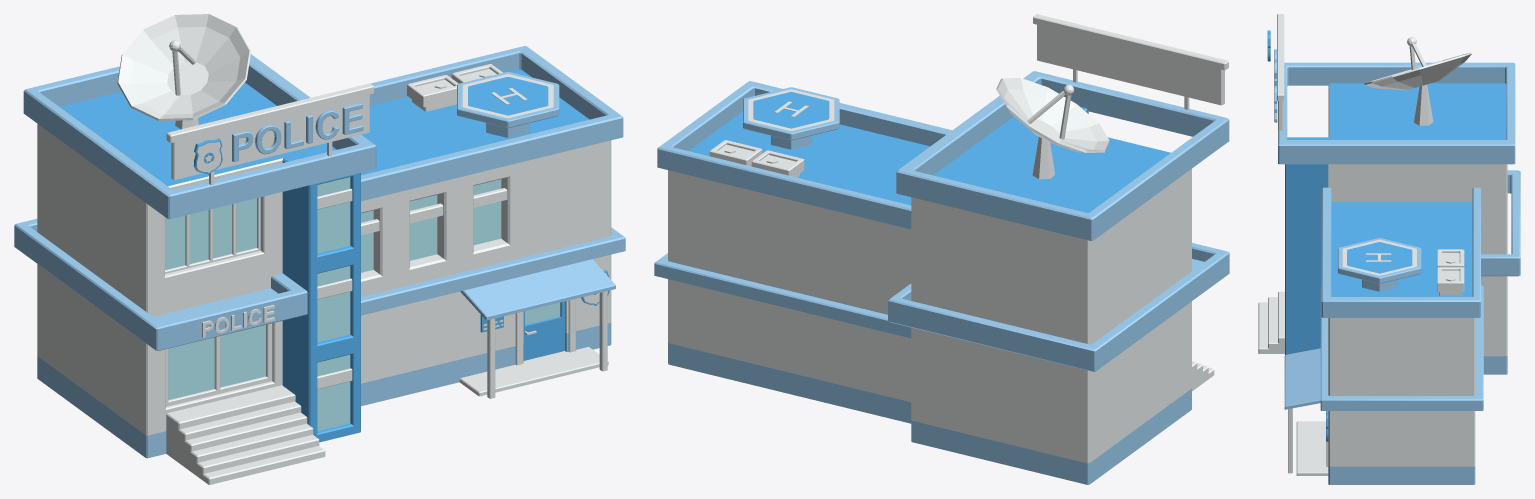
Rendered from Police_Station.fbx.
The picture shows the model from 3 angles, left to right: view 1: azimuth 30°, elevation 25°; view 2: azimuth 150°, elevation 25°; view 3: azimuth 270°, elevation 25°; orthographic projection. The views are drawn at different scales.
Visible parts, largest first — view 1: Police_Station; view 2: Police_Station; view 3: Police_Station.
Part boxes in pixels (box(x1,y1,x2,y2)): Police_Station: box(14, 14, 625, 484); Police_Station: box(654, 14, 1229, 484); Police_Station: box(1258, 14, 1520, 484).
Size of the model in its own units: 1472 by 1037 by 838.
